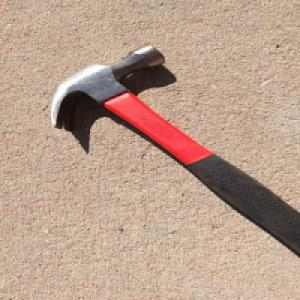Hammer: (47, 43, 300, 256)
